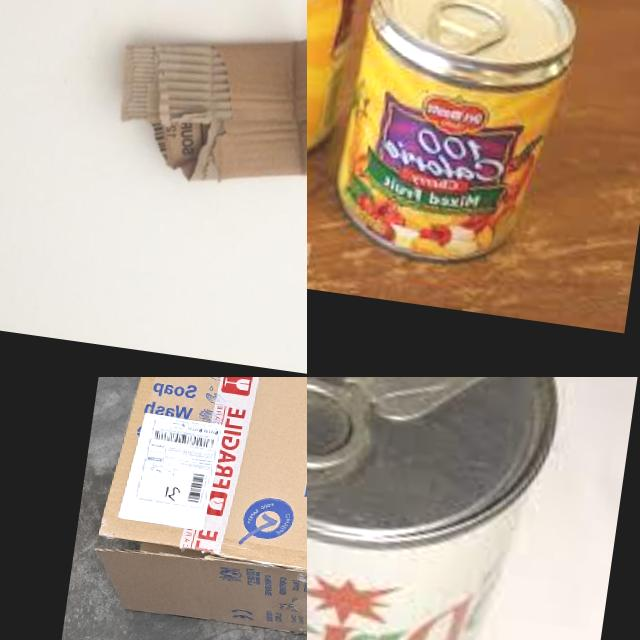aba de lata: (307, 377, 383, 490), (422, 0, 514, 60)
lata: (325, 0, 588, 274), (307, 377, 575, 640)
papelão: (73, 377, 307, 640), (105, 0, 307, 205)
